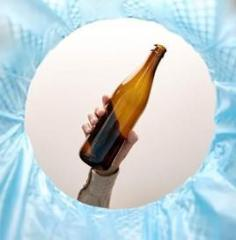glass: (78, 44, 170, 172)
